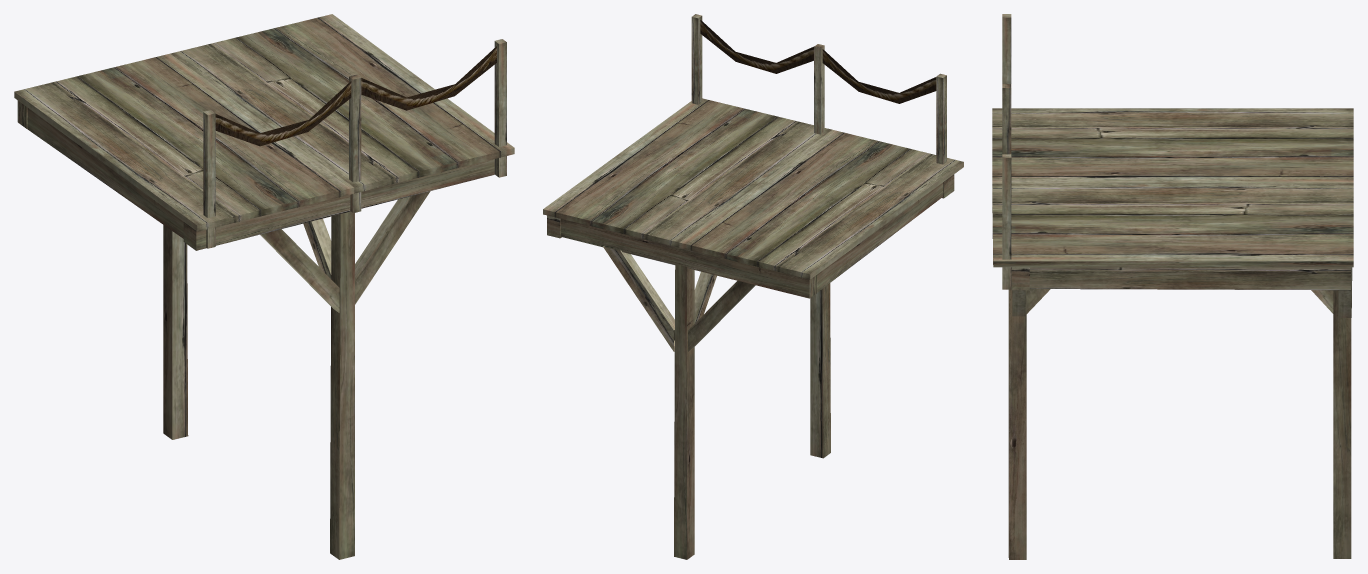
The model's file is pier_scaffold_landing.fbx.
3 renders of one model, left to right at view 1: azimuth 30°, elevation 25°; view 2: azimuth 150°, elevation 25°; view 3: azimuth 270°, elevation 25°, orthographic. The views are drawn at different scales.
Visible parts, largest first — view 1: pier_scaffold_end:Platform1, pier_scaffold_end:Mesh72, pier_scaffold_end:Mesh2, pier_scaffold_end:Mesh70.001, pier_scaffold_end:Mesh6, pier_scaffold_end:polySurface1, polySurface14, pier_scaffold_end:polySurface12, pier_scaffold_end:polySurface13, pier_scaffold_end:Mesh53, pier_scaffold_end:Mesh59, pier_scaffold_end:Mesh58; view 2: pier_scaffold_end:Platform1, pier_scaffold_end:Mesh70.001, pier_scaffold_end:Mesh8, pier_scaffold_end:Mesh72, pier_scaffold_end:Mesh6, polySurface15, polySurface1, pier_scaffold_end:polySurface12, pier_scaffold_end:polySurface13, pier_scaffold_end:Mesh53, pier_scaffold_end:Mesh58, pier_scaffold_end:Mesh59; view 3: pier_scaffold_end:Platform1, pier_scaffold_end:Mesh7, pier_scaffold_end:Mesh72, pier_scaffold_end:Mesh70.001, pier_scaffold_end:Mesh53, pier_scaffold_end:Mesh59, pier_scaffold_end:Mesh58, pier_scaffold_end:Mesh2.
Part boxes in pixels (x1=…): pier_scaffold_end:Platform1: x1=14, y1=14, x2=514, y2=231; pier_scaffold_end:Mesh72: x1=330, y1=211, x2=354, y2=559; pier_scaffold_end:Mesh2: x1=183, y1=159, x2=494, y2=250; pier_scaffold_end:Mesh70.001: x1=163, y1=225, x2=188, y2=439; pier_scaffold_end:Mesh6: x1=27, y1=108, x2=183, y2=238; pier_scaffold_end:polySurface1: x1=260, y1=218, x2=339, y2=312; polySurface14: x1=355, y1=191, x2=430, y2=304; pier_scaffold_end:polySurface12: x1=215, y1=81, x2=351, y2=146; pier_scaffold_end:polySurface13: x1=361, y1=46, x2=496, y2=110; pier_scaffold_end:Mesh53: x1=494, y1=39, x2=506, y2=177; pier_scaffold_end:Mesh59: x1=349, y1=74, x2=361, y2=213; pier_scaffold_end:Mesh58: x1=203, y1=110, x2=215, y2=248; pier_scaffold_end:Platform1: x1=543, y1=98, x2=963, y2=279; pier_scaffold_end:Mesh70.001: x1=674, y1=264, x2=694, y2=559; pier_scaffold_end:Mesh8: x1=561, y1=219, x2=817, y2=298; pier_scaffold_end:Mesh72: x1=810, y1=283, x2=830, y2=458; pier_scaffold_end:Mesh6: x1=817, y1=183, x2=942, y2=292; polySurface15: x1=688, y1=271, x2=755, y2=351; polySurface1: x1=603, y1=246, x2=674, y2=351; pier_scaffold_end:polySurface12: x1=822, y1=49, x2=936, y2=103; pier_scaffold_end:polySurface13: x1=700, y1=20, x2=813, y2=73; pier_scaffold_end:Mesh53: x1=691, y1=14, x2=702, y2=104; pier_scaffold_end:Mesh58: x1=936, y1=73, x2=946, y2=164; pier_scaffold_end:Mesh59: x1=814, y1=44, x2=824, y2=134; pier_scaffold_end:Platform1: x1=992, y1=108, x2=1353, y2=267; pier_scaffold_end:Mesh7: x1=1029, y1=267, x2=1350, y2=290; pier_scaffold_end:Mesh72: x1=1008, y1=286, x2=1026, y2=559; pier_scaffold_end:Mesh70.001: x1=1333, y1=290, x2=1351, y2=558; pier_scaffold_end:Mesh53: x1=1002, y1=154, x2=1011, y2=289; pier_scaffold_end:Mesh59: x1=1002, y1=84, x2=1011, y2=154; pier_scaffold_end:Mesh58: x1=1002, y1=14, x2=1011, y2=83; pier_scaffold_end:Mesh2: x1=1011, y1=267, x2=1029, y2=290.
Bounding box in the file's own units: 1444 × 2083 × 1441.
2 materials, 2 textured.
